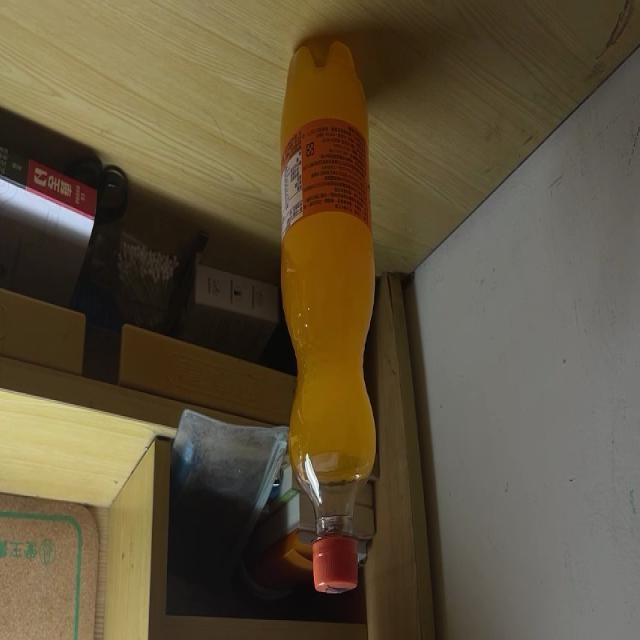Fanta: (277, 41, 378, 598)
